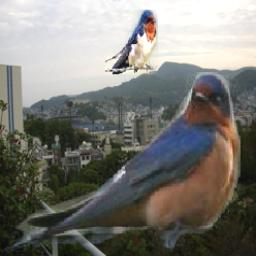Swallow: (3, 73, 239, 253), (104, 10, 157, 74)
